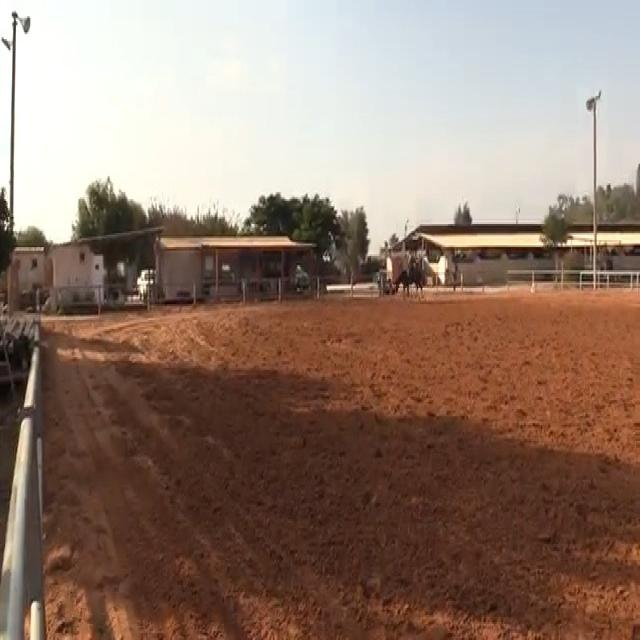horse: (389, 256, 427, 299)
